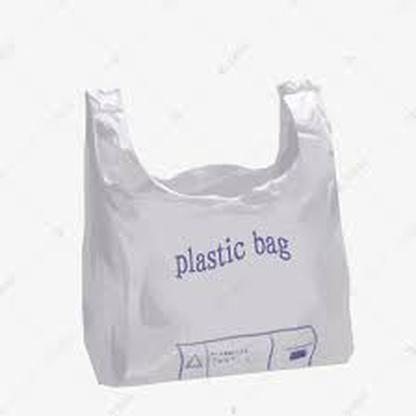plastic bag: (80, 79, 353, 387)
